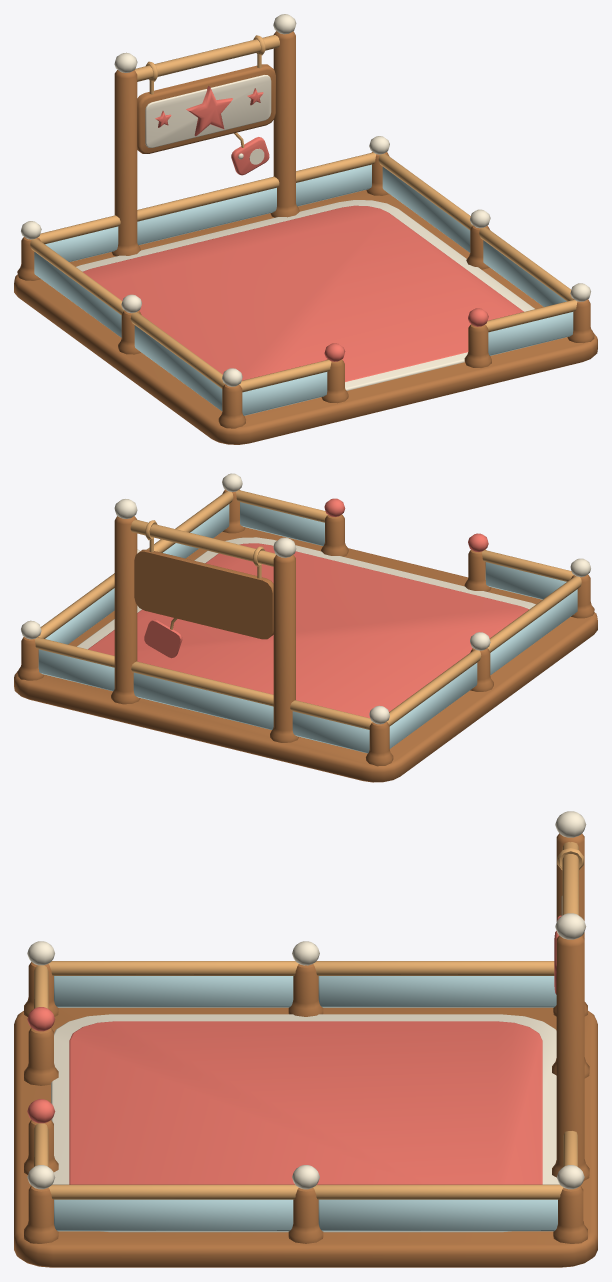
Rendered from ShopShowcase.fbx.
3 views of the same model, one above another, from view 1: azimuth 30°, elevation 25°; view 2: azimuth 150°, elevation 25°; view 3: azimuth 270°, elevation 25° (orthographic). The views are drawn at different scales.
Visible parts, largest first — view 1: ShopShowcase; view 2: ShopShowcase; view 3: ShopShowcase.
Part boxes in pixels (left/top/right/bottom): ShopShowcase: left=14, top=14, right=597, bottom=444; ShopShowcase: left=14, top=473, right=597, bottom=782; ShopShowcase: left=14, top=811, right=597, bottom=1267.
Bounding box in the file's own units: 3 × 1.6 × 3.
